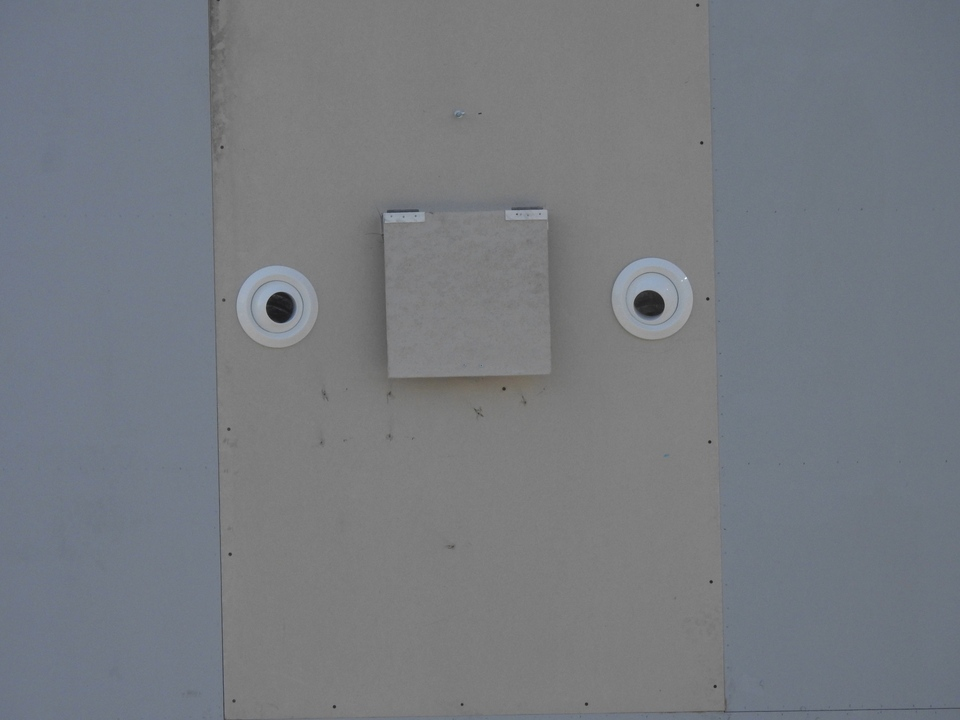facade: (234, 206, 692, 381)
